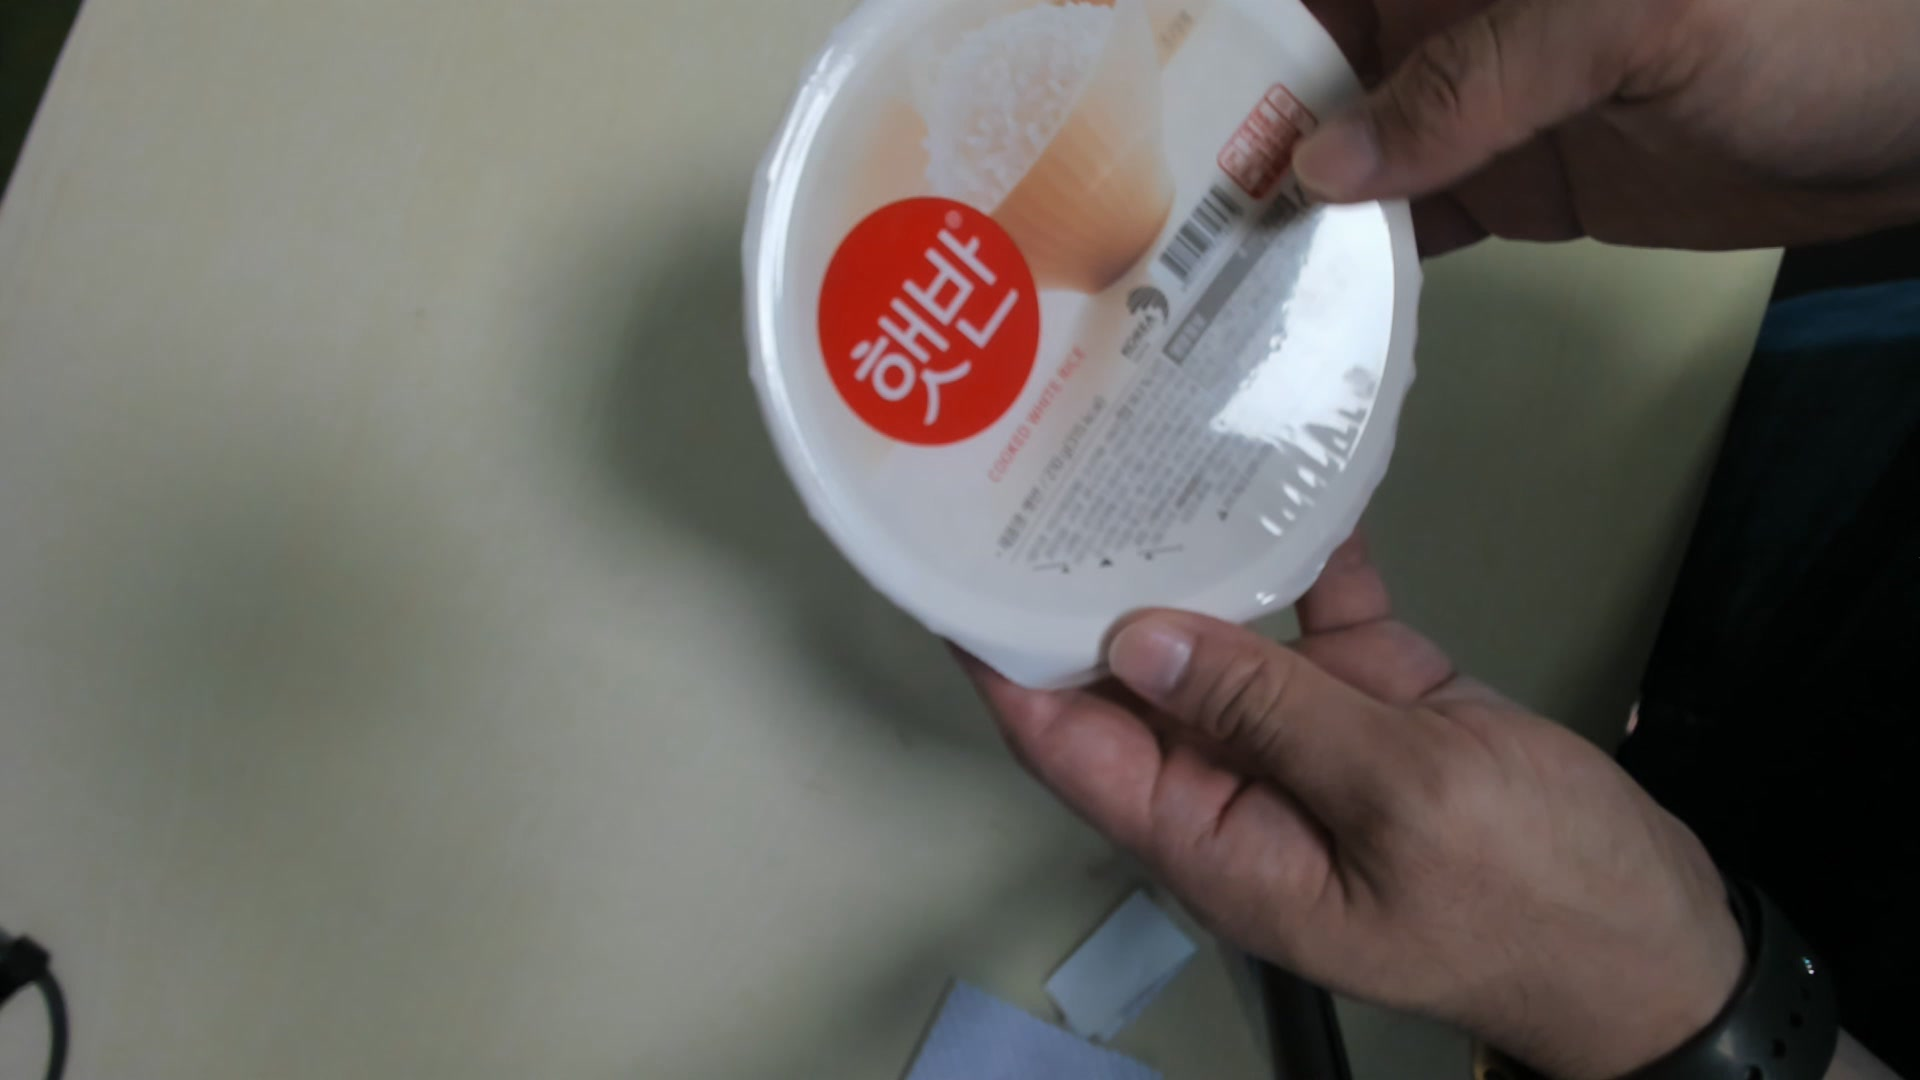Pasta_500-599g_Halal_NonHealthy: (733, 1, 1422, 688)
